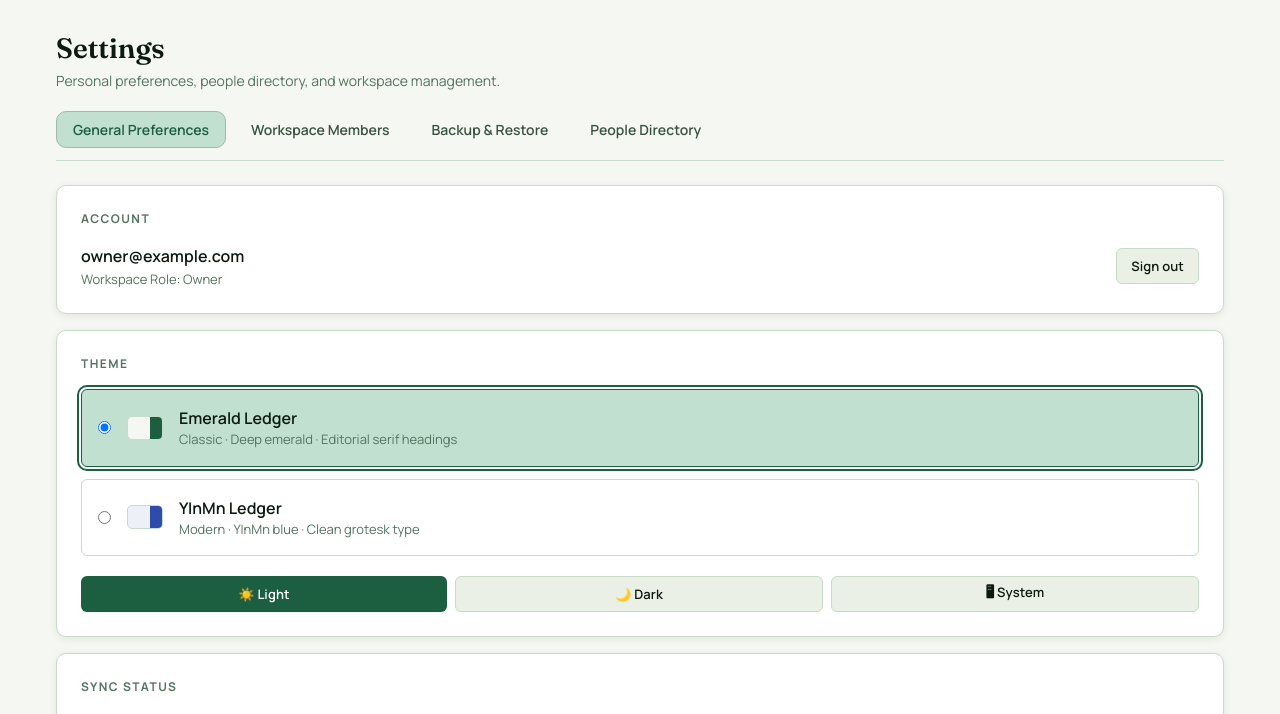
it: SettingsPage sub-tabs and management › switches to Workspace Members sub-tab and displays member table
This screenshot has width=1280, height=714.
Click the tab "Workspace Members" at (320, 129), box [234,111,407,148]
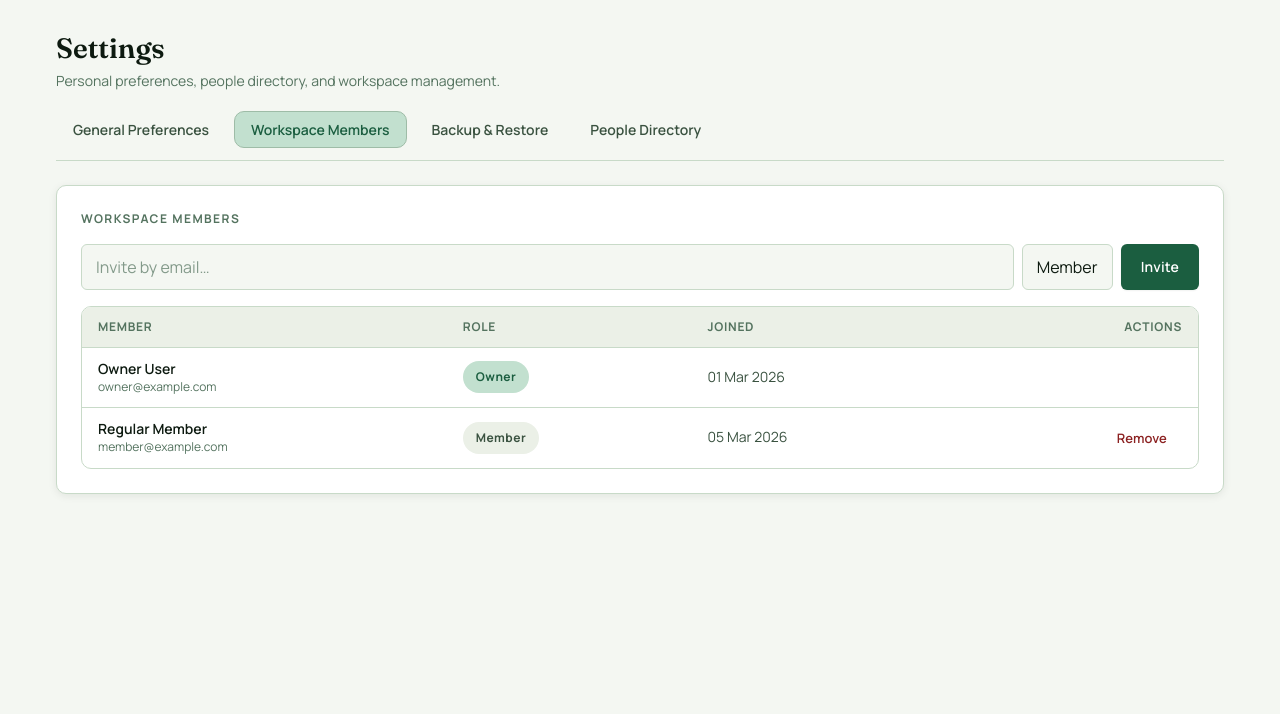
Expected: the table with class "data-table" is shown, [82,307,1198,468]
Expected: the text "Regular Member" is shown, [98,419,207,438]
Expected: the text "member@example.com" is shown, [98,438,228,455]
